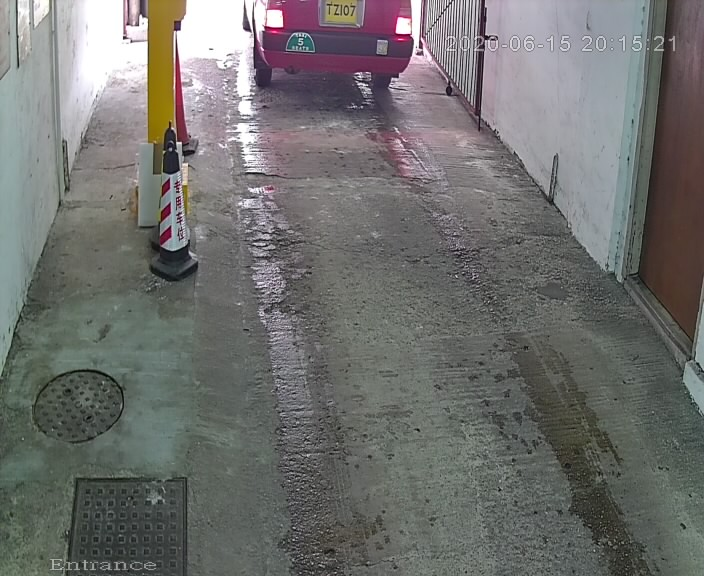taxi: (229, 2, 432, 112)
taxi_mark: (281, 27, 322, 61)
